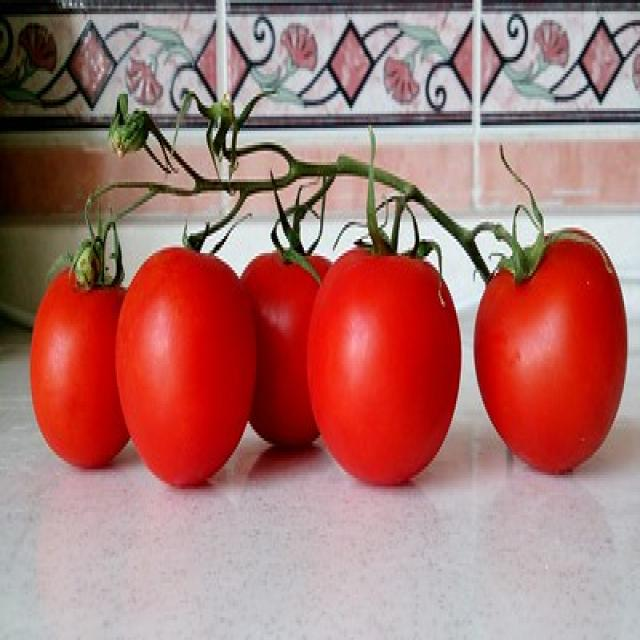Tomato: (304, 128, 462, 493), (470, 142, 630, 482), (110, 245, 262, 492), (28, 204, 135, 472), (240, 165, 336, 452)
